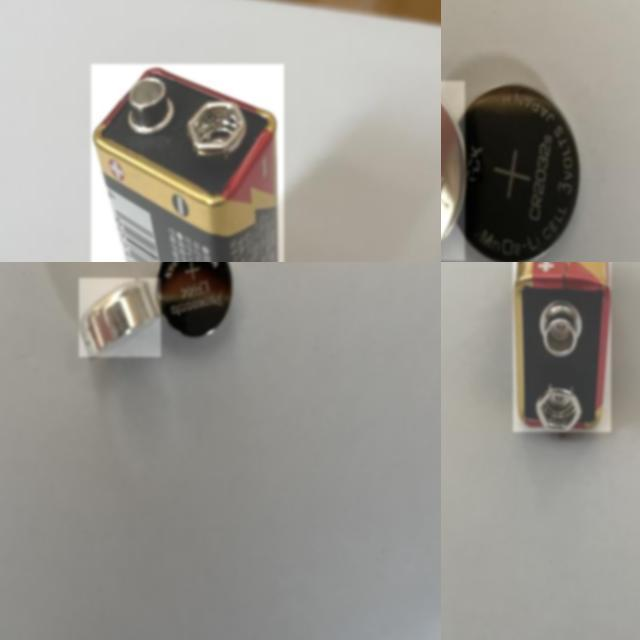9V: (91, 64, 284, 262), (513, 262, 611, 432)
